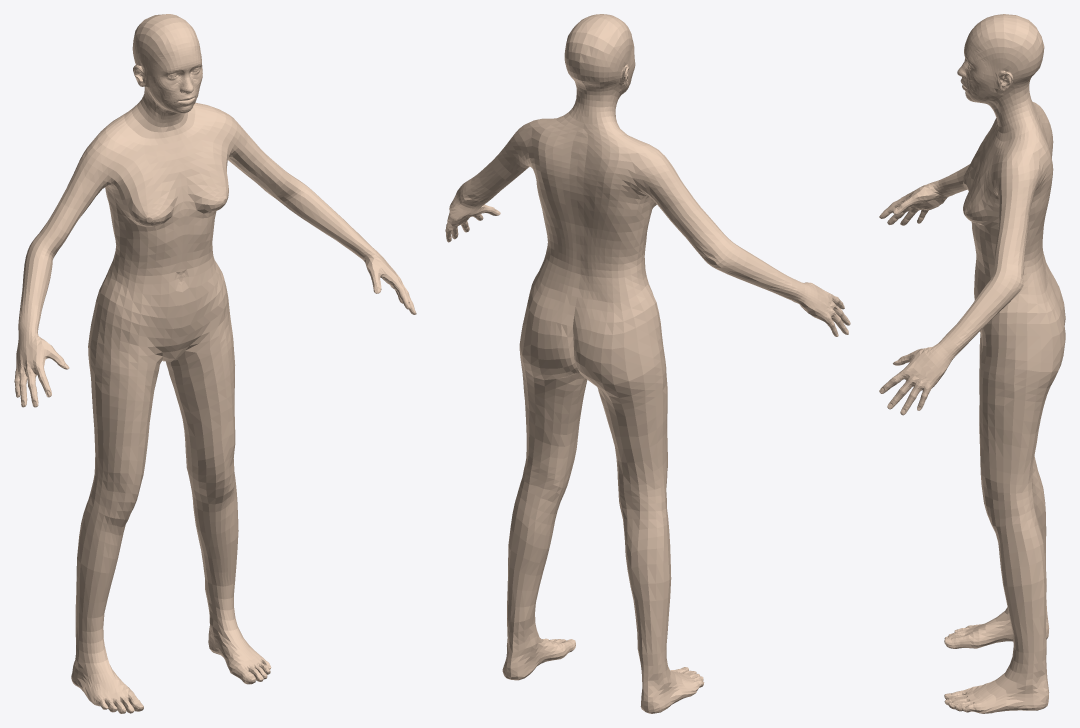
Rendered from female-mature-fit-toned.glb.
The picture shows the model from 3 angles, left to right: view 1: azimuth 30°, elevation 25°; view 2: azimuth 150°, elevation 25°; view 3: azimuth 270°, elevation 25°; orthographic projection.
Parts seen in each view (by area): view 1: world; view 2: world; view 3: world.
Part boxes in pixels (box(x1,y1,x2,y2)): world: box(14, 14, 416, 713); world: box(445, 14, 850, 713); world: box(879, 14, 1065, 713).
Bounding box in the file's own units: 1.12 × 1.81 × 0.4641.
